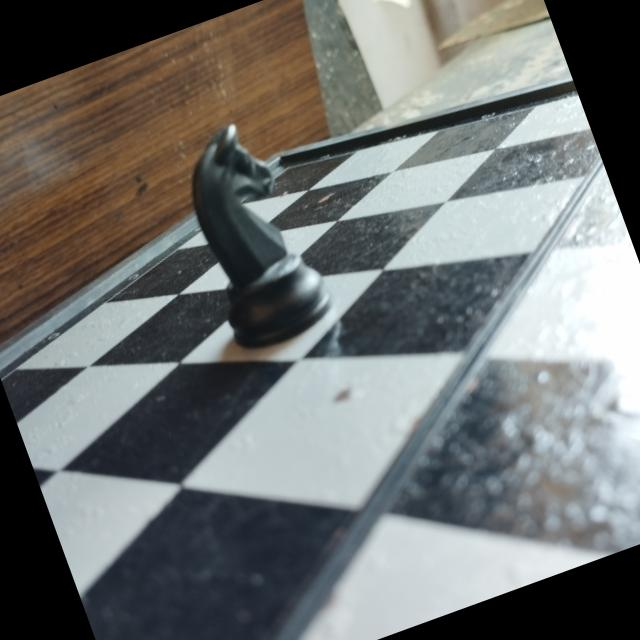Black Knight: (158, 102, 346, 364)
